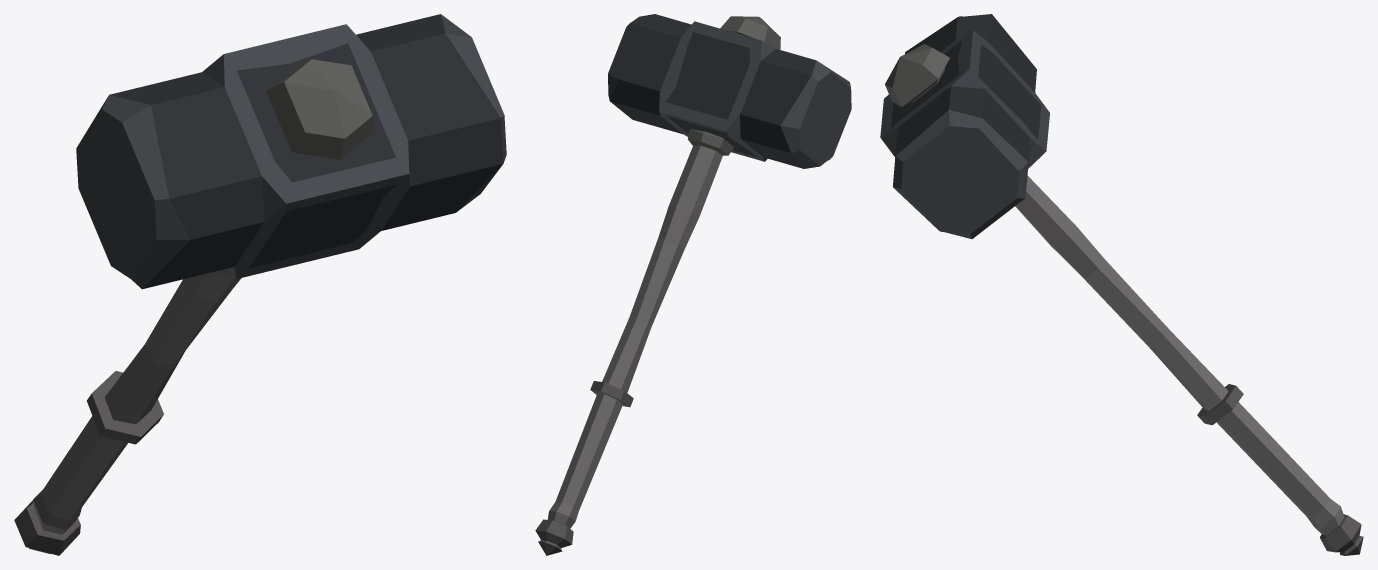
File: fk-hammer-03.glb
The picture shows the model from 3 angles, left to right: view 1: azimuth 30°, elevation 25°; view 2: azimuth 150°, elevation 25°; view 3: azimuth 270°, elevation 25°; orthographic projection. The views are drawn at different scales.
Parts seen in each view (by area): view 1: fk-hammer-03; view 2: fk-hammer-03; view 3: fk-hammer-03.
Boxes of the visible parts, x1,y1,x2,y2 form: fk-hammer-03: (14, 14, 506, 555); fk-hammer-03: (535, 14, 851, 555); fk-hammer-03: (880, 14, 1363, 555).
Size of the model in its own units: 0.4772 by 0.9425 by 0.8337.
1 material, 1 textured.
